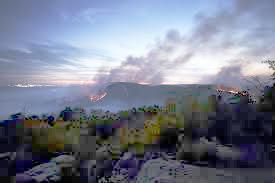fire: (74, 76, 122, 108), (205, 77, 256, 101)
